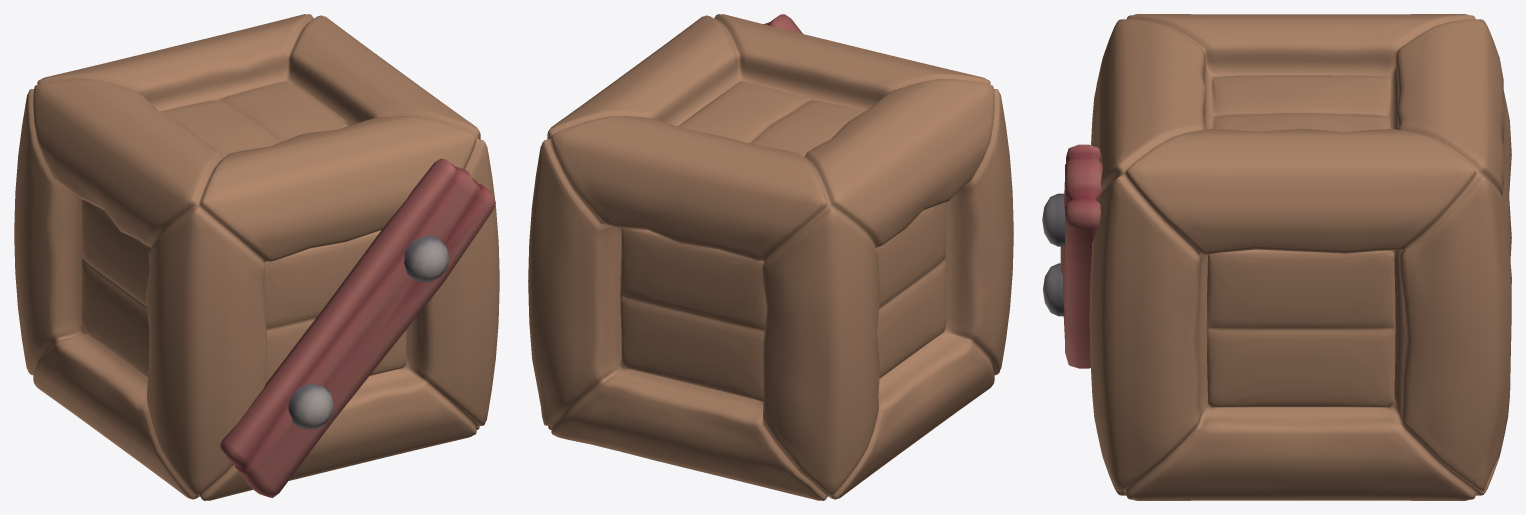
The picture shows the model from 3 angles, left to right: view 1: azimuth 30°, elevation 25°; view 2: azimuth 150°, elevation 25°; view 3: azimuth 270°, elevation 25°; orthographic projection. The views are drawn at different scales.
Visible parts, largest first — view 1: Box, Wood; view 2: Box; view 3: Box, Wood.
Boxes of the visible parts, x1,y1,x2,y2 form: Box: (14, 14, 499, 500); Wood: (219, 158, 495, 497); Box: (528, 14, 1013, 500); Box: (1089, 14, 1511, 500); Wood: (1042, 144, 1102, 368).
Bounding box in the file's own units: 555 × 519 × 617.
